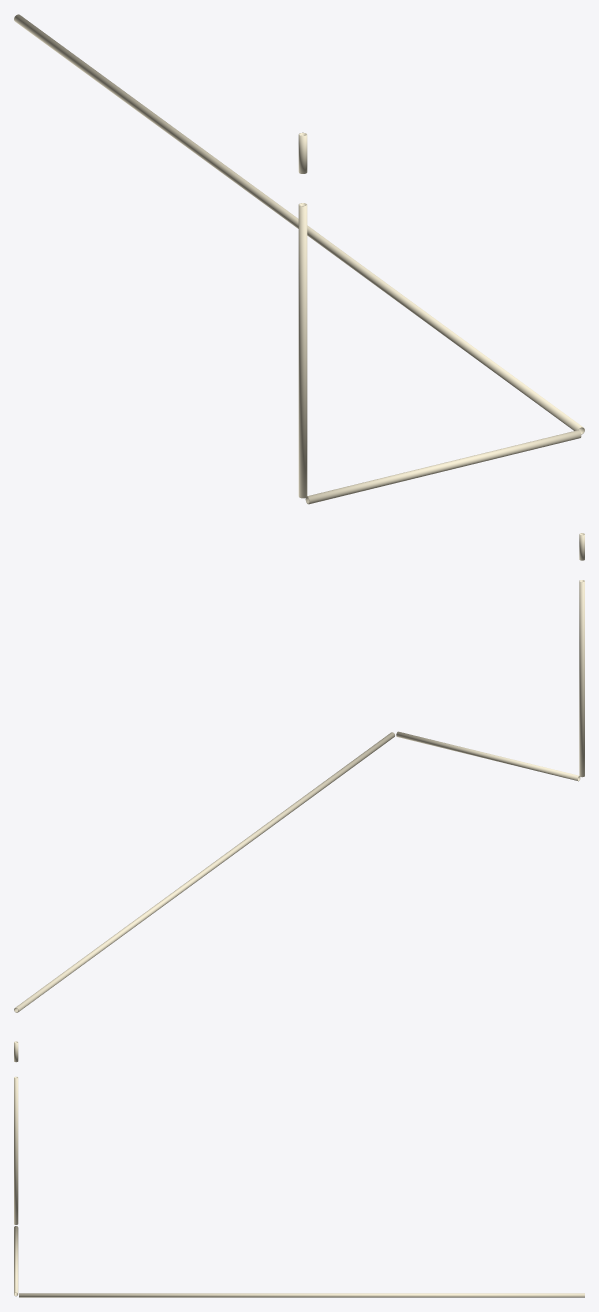
The model's file is pipes_supply__water_heater__5b6007c7.glb.
The picture shows the model from 3 angles, top to bottom: view 1: azimuth 30°, elevation 25°; view 2: azimuth 150°, elevation 25°; view 3: azimuth 270°, elevation 25°; orthographic projection. The views are drawn at different scales.
Visible parts, largest first — view 1: pipe_supply_cold_riser_tmv_lo; view 2: pipe_supply_cold_riser_tmv_lo; view 3: pipe_supply_cold_riser_tmv_lo.
Boxes of the visible parts, x1,y1,x2,y2 form: pipe_supply_cold_riser_tmv_lo: (14,14,584,504); pipe_supply_cold_riser_tmv_lo: (14,533,584,1012); pipe_supply_cold_riser_tmv_lo: (14,1041,584,1297).
Size of the model in its own units: 0.8772 by 1.08 by 3.
